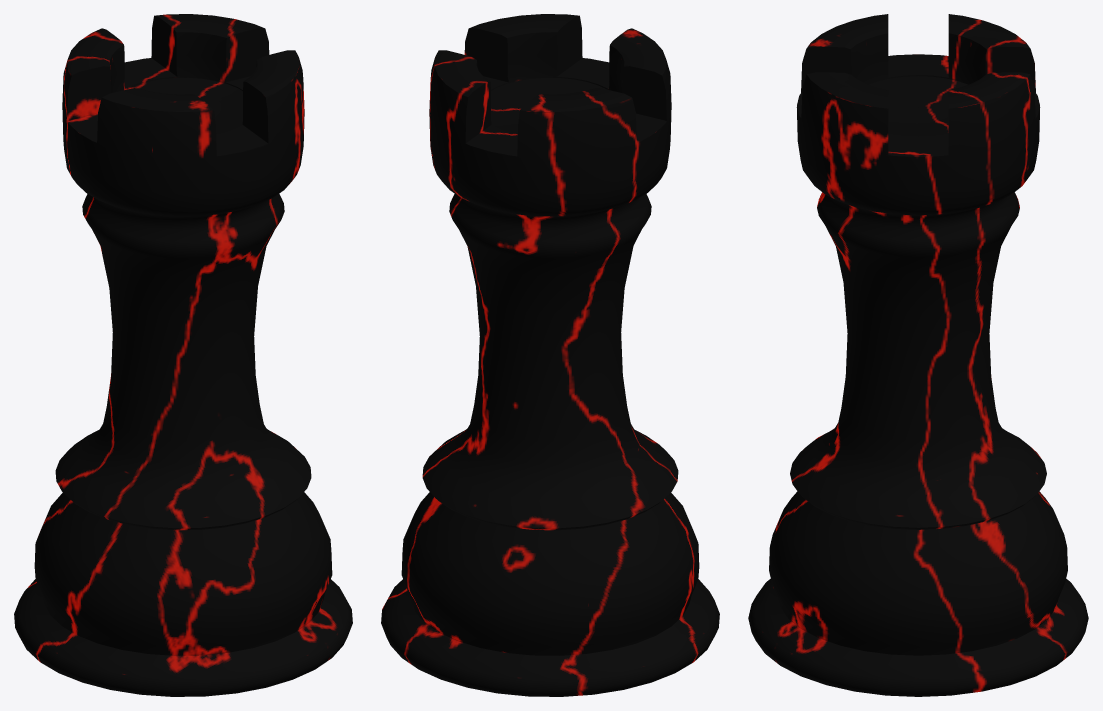
Rendered from BlackRook.glb.
3 views of the same model, side by side, from view 1: azimuth 30°, elevation 25°; view 2: azimuth 150°, elevation 25°; view 3: azimuth 270°, elevation 25° (orthographic).
Parts seen in each view (by area): view 1: Rook; view 2: Rook; view 3: Rook.
Boxes of the visible parts, <box> form: Rook: <box>14,14,352,696</box>; Rook: <box>381,14,719,696</box>; Rook: <box>748,14,1088,696</box>.
Size of the model in its own units: 0.1835 by 0.3408 by 0.1835.
1 material, 1 textured.
